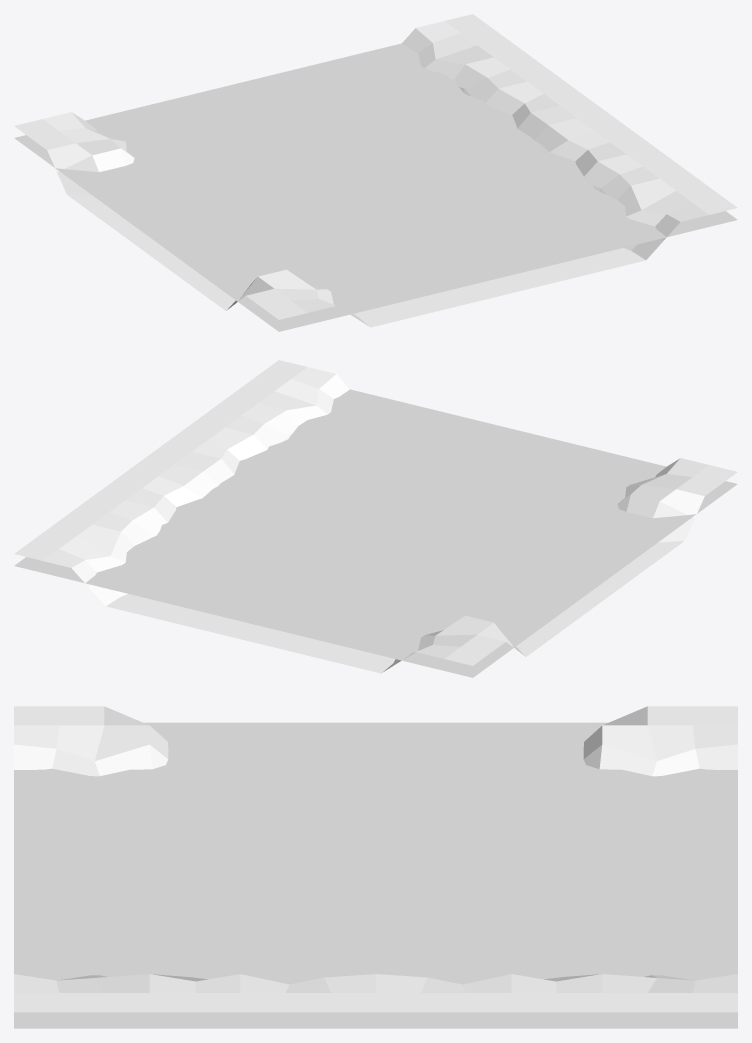
The model's file is ground.river.tee.glb.
The picture shows the model from 3 angles, top to bottom: view 1: azimuth 30°, elevation 25°; view 2: azimuth 150°, elevation 25°; view 3: azimuth 270°, elevation 25°; orthographic projection. The views are drawn at different scales.
Parts seen in each view (by area): view 1: ground.river.water.tee, ground.river.tee; view 2: ground.river.water.tee, ground.river.tee; view 3: ground.river.water.tee, ground.river.tee.
Boxes of the visible parts, bbox=[...] form: ground.river.water.tee: bbox=[14, 43, 737, 331]; ground.river.tee: bbox=[14, 14, 737, 327]; ground.river.water.tee: bbox=[14, 389, 737, 677]; ground.river.tee: bbox=[14, 360, 737, 673]; ground.river.water.tee: bbox=[14, 722, 737, 1028]; ground.river.tee: bbox=[14, 706, 737, 1012].
Size of what is drawn, in the model's own units: 4 by 0.25 by 4.
Materials: 1 (1 with a texture image).
